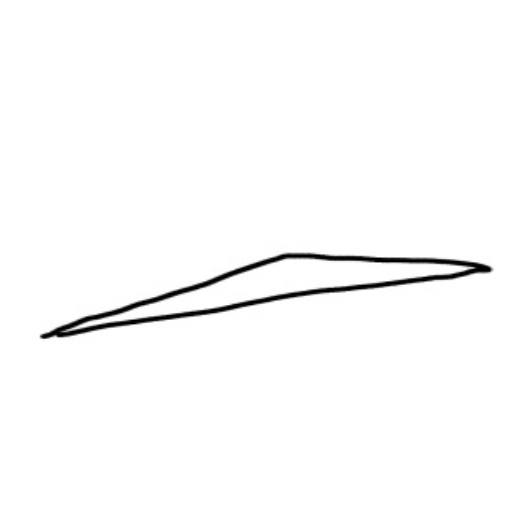triangle: (37, 245, 495, 343)
